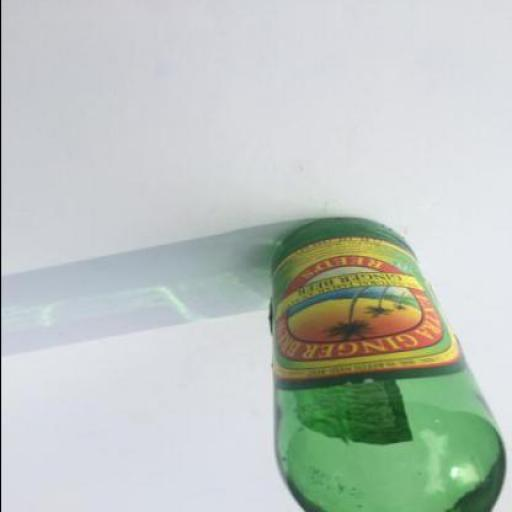glass: (266, 218, 504, 511)
